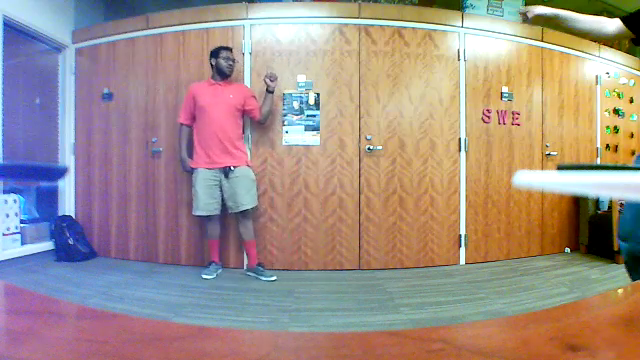up: (259, 60, 277, 92)
